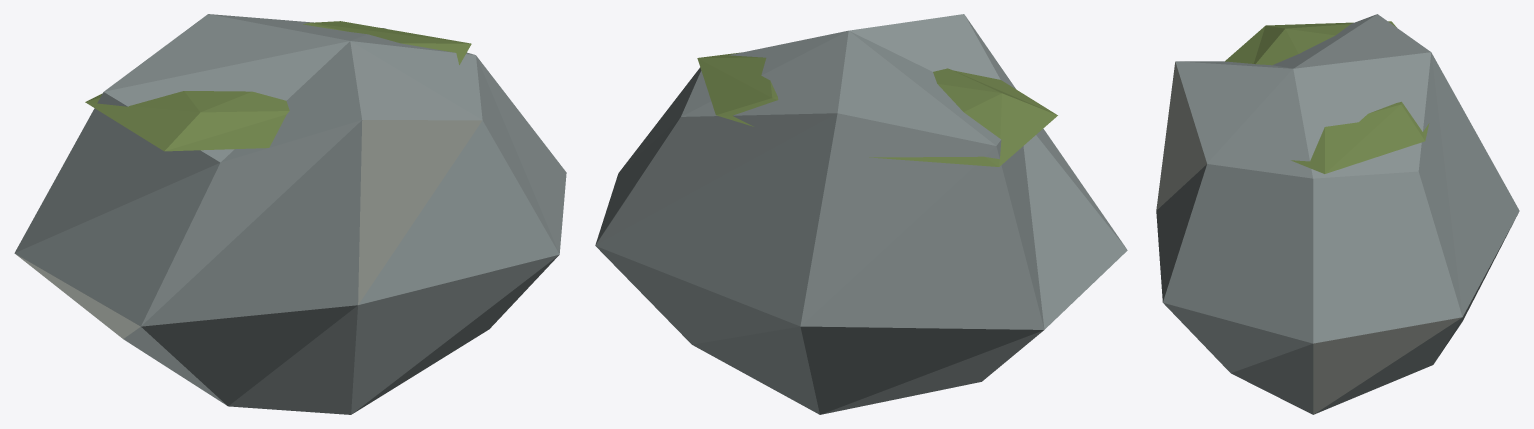
File: granite_moss.glb
3 renders of one model, left to right at view 1: azimuth 30°, elevation 25°; view 2: azimuth 150°, elevation 25°; view 3: azimuth 270°, elevation 25°, orthographic. The views are drawn at different scales.
Visible parts, largest first — view 1: granite_moss; view 2: granite_moss; view 3: granite_moss.
Boxes of the visible parts, left/top/right/bottom form: granite_moss: left=14, top=14, right=566, bottom=414; granite_moss: left=595, top=14, right=1127, bottom=414; granite_moss: left=1156, top=14, right=1519, bottom=414.
Bounding box in the file's own units: 2.21 × 1.34 × 1.56.
